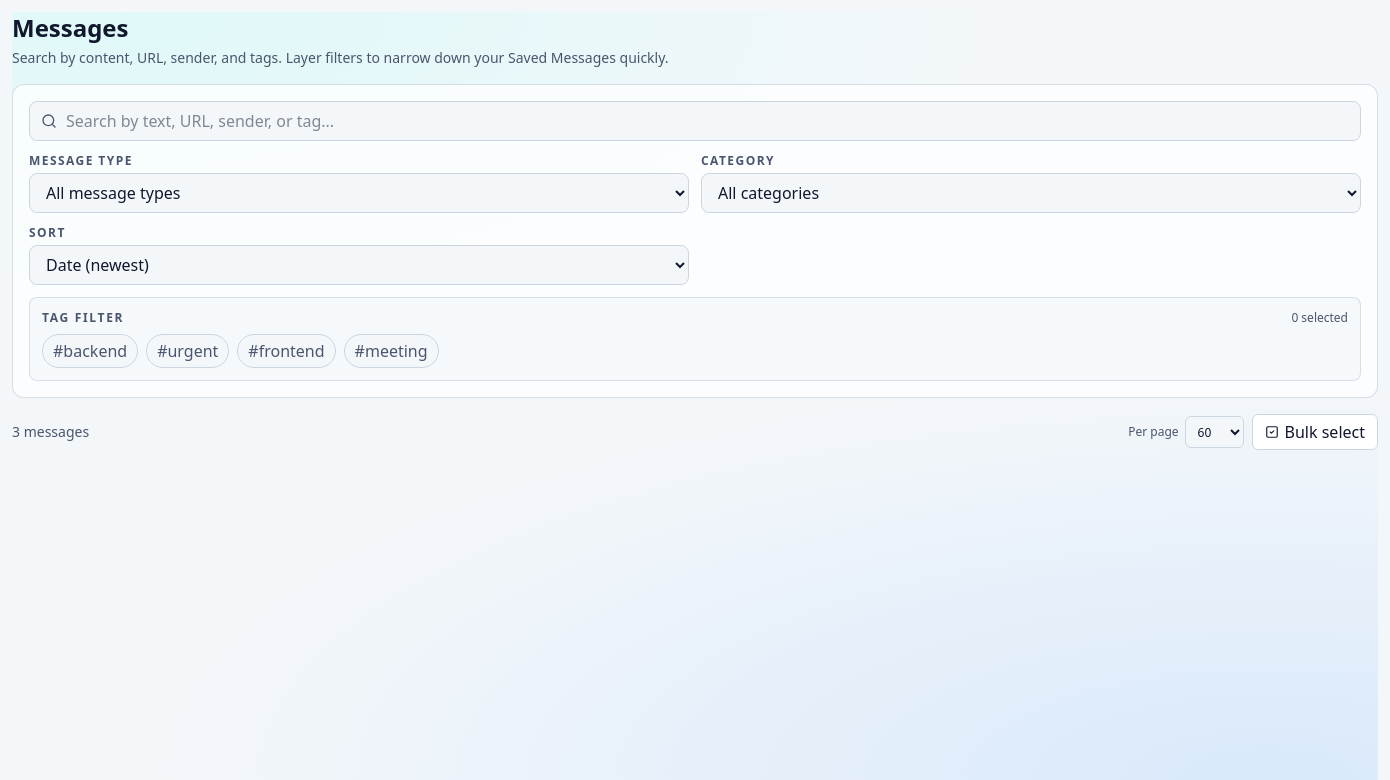
Test: MessagesPage actions › offers a local-only bulk delete when Telegram is disconnected
Check: the text "3 messages" is shown, box top-left (12, 422), bottom-right (89, 442)
Click the button "Bulk select" at (1315, 432), box top-left (1252, 414), bottom-right (1378, 450)
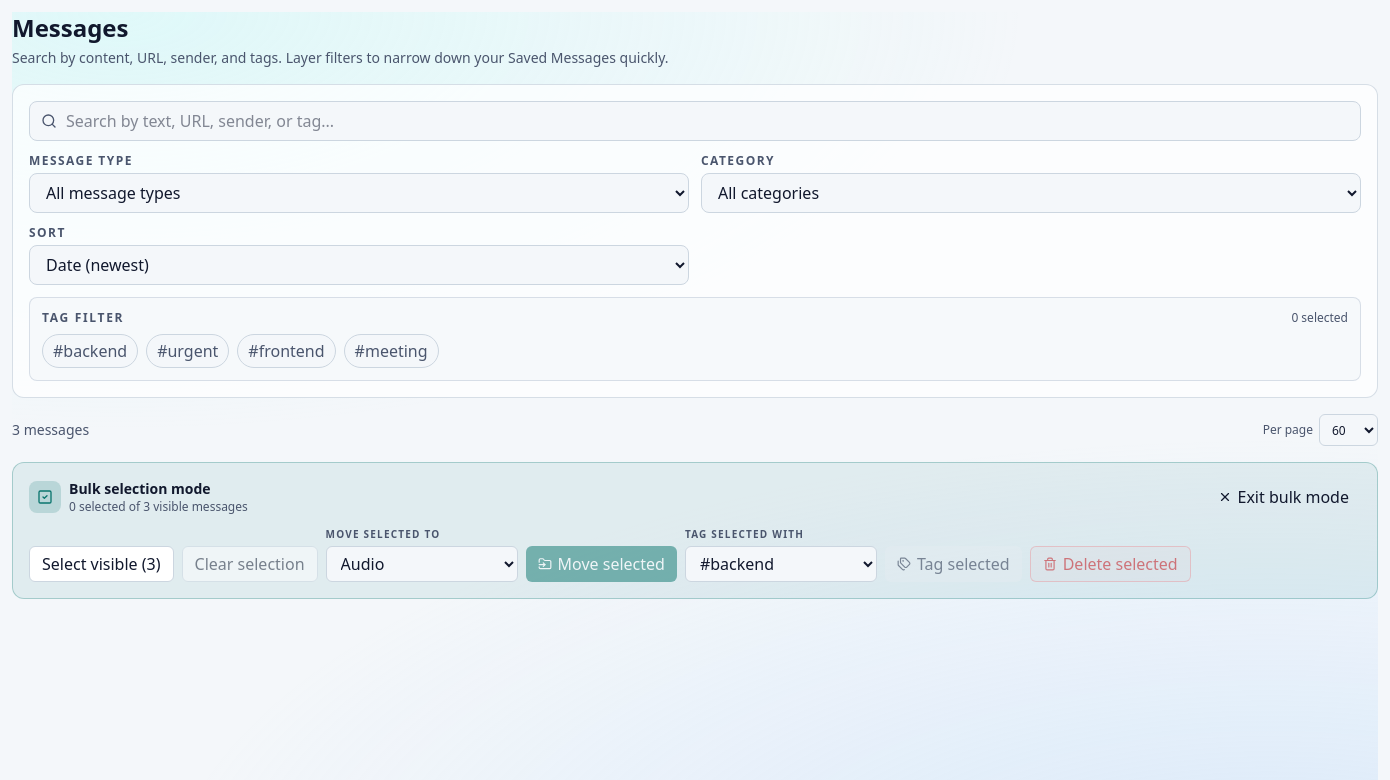
Click the button "Select visible (3)" at (101, 564), box top-left (29, 546), bottom-right (174, 582)
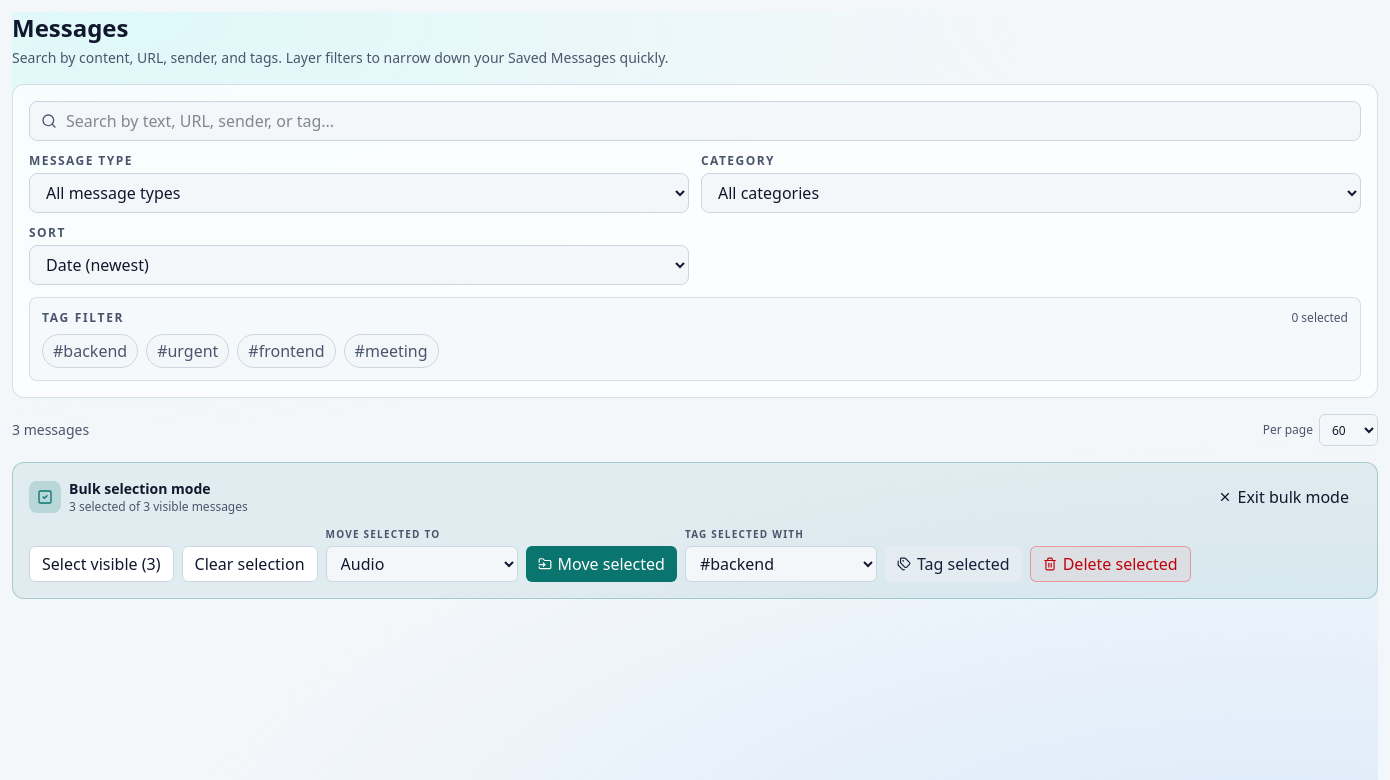
Click the button "Delete selected" at (1110, 564), box top-left (1030, 546), bottom-right (1191, 582)
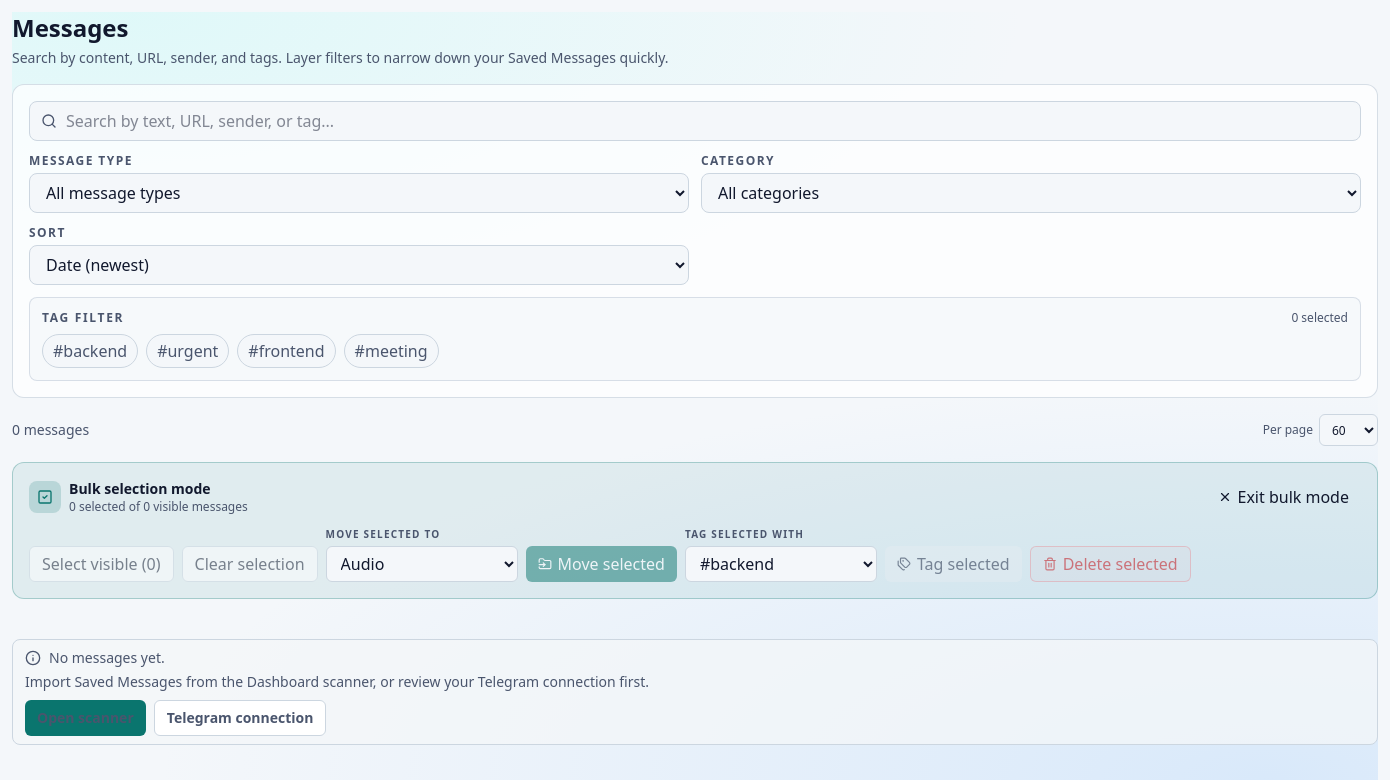
Check: the text "No messages yet." is shown, box top-left (49, 648), bottom-right (165, 668)
